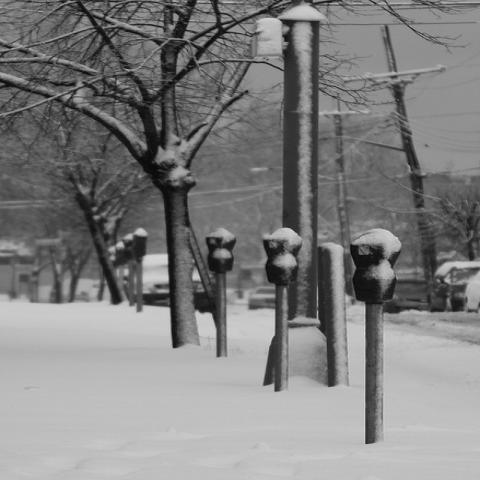car: (142, 254, 212, 313), (425, 260, 479, 312), (383, 276, 430, 314), (247, 286, 281, 312)
